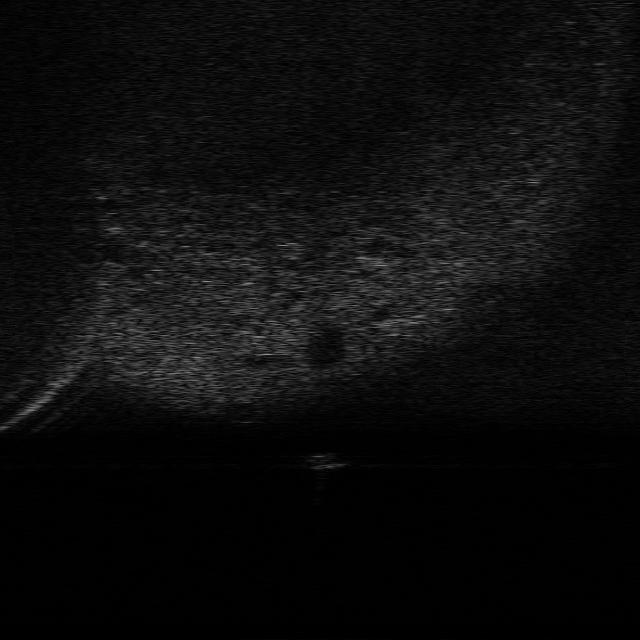cube: (303, 452, 352, 472)
